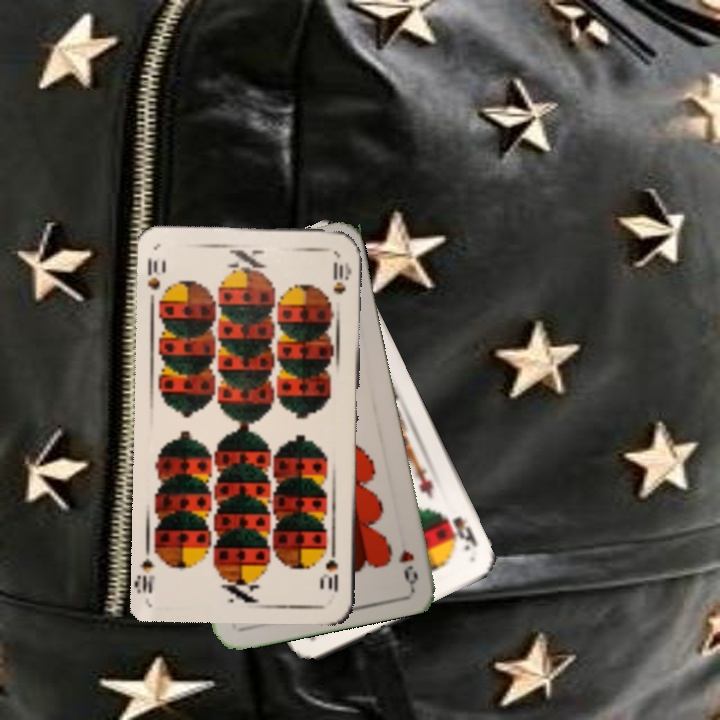H9: (394, 544, 421, 588)
S10: (322, 542, 341, 595), (143, 254, 163, 292)
SK: (438, 508, 480, 554)
